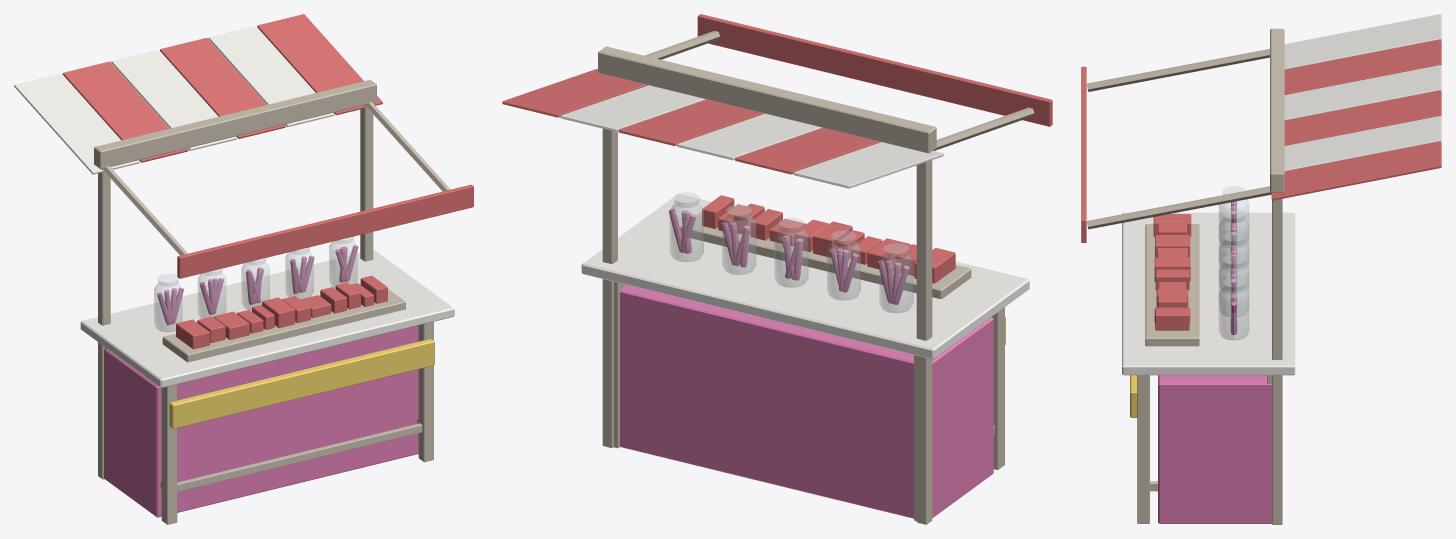
The model's file is amusement-arcade-and-seaside-pier-rock-and-sweet-stall-81d20bbb__35419.glb.
The picture shows the model from 3 angles, left to right: view 1: azimuth 30°, elevation 25°; view 2: azimuth 150°, elevation 25°; view 3: azimuth 270°, elevation 25°; orthographic projection. The views are drawn at different scales.
Parts seen in each view (by area): view 1: rock-and-sweet-stall; view 2: rock-and-sweet-stall; view 3: rock-and-sweet-stall.
Part boxes in pixels (x1,y1,x2,y2): rock-and-sweet-stall: (14, 14, 473, 524); rock-and-sweet-stall: (502, 14, 1052, 524); rock-and-sweet-stall: (1081, 14, 1441, 524).
Size of the model in its own units: 2.02 by 2.23 by 1.99.
